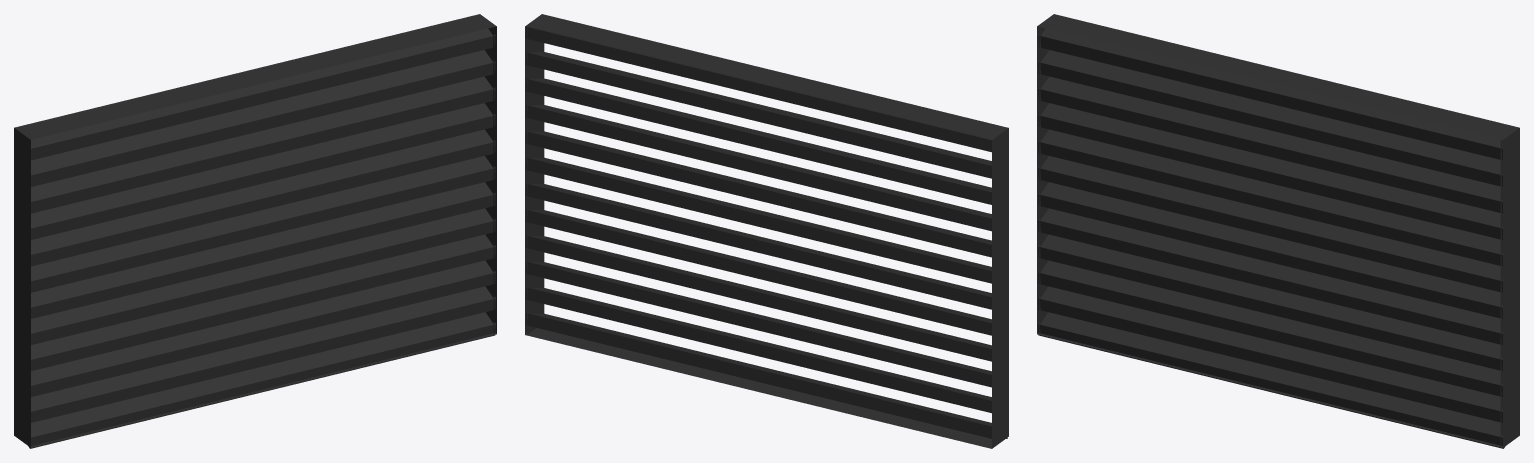
The model's file is HeaterGrates.003.glb.
The picture shows the model from 3 angles, left to right: view 1: azimuth 30°, elevation 25°; view 2: azimuth 150°, elevation 25°; view 3: azimuth 330°, elevation 25°; orthographic projection.
Parts seen in each view (by area): view 1: HeaterGrates.003; view 2: HeaterGrates.003; view 3: HeaterGrates.003.
Boxes of the visible parts, x1,y1,x2,y2 form: HeaterGrates.003: [14, 14, 496, 448]; HeaterGrates.003: [525, 14, 1008, 448]; HeaterGrates.003: [1037, 14, 1519, 448].
Size of what is drawn, in the model's own units: 0.3985 by 0.2533 by 0.0251.
1 material, 1 textured.
